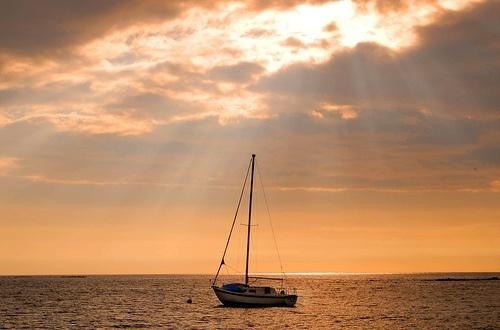boat: (210, 153, 300, 308)
